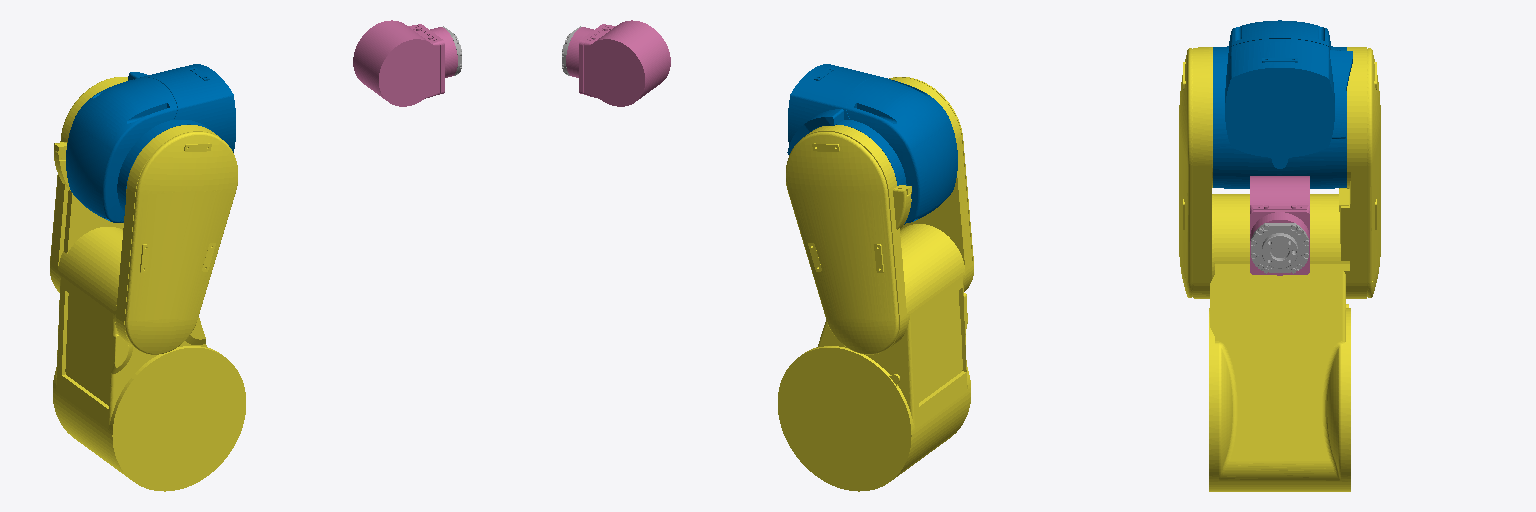
robot.urdf — rv7f:
<?xml version="1.0" ?>
<!-- =================================================================================== -->
<!-- |    This document was autogenerated by xacro from rv7f.urdf.xacro                | -->
<!-- |    EDITING THIS FILE BY HAND IS NOT RECOMMENDED                                 | -->
<!-- =================================================================================== -->
<robot name="rv7f" xmlns:xacro="http://ros.org/wiki/xacro">
  <!-- Include -->
  <material name="black">
    <color rgba="0.0 0.0 0.0 1.0"/>
  </material>
  <material name="blue">
    <color rgba="0.0 0.0 0.8 1.0"/>
  </material>
  <material name="green">
    <color rgba="0.0 0.8 0.0 1.0"/>
  </material>
  <material name="grey">
    <color rgba="0.2 0.2 0.2 1.0"/>
  </material>
  <material name="orange">
    <color rgba="1.0 0.423529411765 0.0392156862745 1.0"/>
  </material>
  <material name="brown">
    <color rgba="0.870588235294 0.811764705882 0.764705882353 1.0"/>
  </material>
  <material name="red">
    <color rgba="0.8 0.0 0.0 1.0"/>
  </material>
  <material name="white">
    <color rgba="1.0 1.0 1.0 1.0"/>
  </material>
  <!-- Radius Limits -->
  <!-- Velocity Limits -->
  <link name="base_link">
    <visual>
      <geometry>
        <mesh filename="package://mitsubishi_rv7f_description/meshes/rv7f/visual/base_link.dae"/>
      </geometry>
    </visual>
    <collision>
      <geometry>
        <mesh filename="package://mitsubishi_rv7f_description/meshes/rv7f/collision/base_link.stl"/>
      </geometry>
    </collision>
    <inertial>
      <mass value="12.928376"/>
      <inertia ixx="0.259755" ixy="-0.000334" ixz="-0.032452" iyy="0.287122" iyz="-0.023950" izz="0.148846"/>
    </inertial>
  </link>
  <link name="world"/>
  <joint name="world" type="fixed">
    <parent link="world"/>
    <child link="base_link"/>
  </joint>
  <link name="link_1">
    <visual>
      <geometry>
        <mesh filename="package://mitsubishi_rv7f_description/meshes/rv7f/visual/link_1.dae"/>
      </geometry>
    </visual>
    <collision>
      <geometry>
        <mesh filename="package://mitsubishi_rv7f_description/meshes/rv7f/collision/link_1.stl"/>
      </geometry>
    </collision>
    <inertial>
      <mass value="5.855081"/>
      <inertia ixx="0.109940" ixy="-0.000021" ixz="-0.001942" iyy="0.071902" iyz="-0.000051" izz="0.065726"/>
    </inertial>
  </link>
  <joint name="J1" type="revolute">
    <origin rpy="0 0 0" xyz="0 0 0.3995"/>
    <parent link="base_link"/>
    <child link="link_1"/>
    <axis xyz="0 0 1"/>
    <dynamics dampint="0.7" friction="0.7"/>
    <limit effort="30.0" lower="-4.18879032" upper="4.18879032" velocity="6.28318548"/>
  </joint>
  <link name="link_2">
    <visual>
      <geometry>
        <mesh filename="package://mitsubishi_rv7f_description/meshes/rv7f/visual/link_2.dae"/>
      </geometry>
    </visual>
    <collision>
      <geometry>
        <mesh filename="package://mitsubishi_rv7f_description/meshes/rv7f/collision/link_2.stl"/>
      </geometry>
    </collision>
    <inertial>
      <mass value="9.260846"/>
      <inertia ixx="0.295810" ixy="-0.000221" ixz="-0.019796" iyy="0.282036" iyz="0.001444" izz="0.053750"/>
    </inertial>
  </link>
  <joint name="J2" type="revolute">
    <origin rpy="0 0 0" xyz="0 0 0"/>
    <parent link="link_1"/>
    <child link="link_2"/>
    <axis xyz="0 1 0"/>
    <dynamics dampint="0.7" friction="0.7"/>
    <limit effort="30.0" lower="-2.007128695" upper="2.181661625" velocity="6.998770493"/>
  </joint>
  <link name="link_3">
    <visual>
      <geometry>
        <mesh filename="package://mitsubishi_rv7f_description/meshes/rv7f/visual/link_3.dae"/>
      </geometry>
    </visual>
    <collision>
      <geometry>
        <mesh filename="package://mitsubishi_rv7f_description/meshes/rv7f/collision/link_3.stl"/>
      </geometry>
    </collision>
    <inertial>
      <mass value="3.795239"/>
      <inertia ixx="0.014442" ixy="0.000207" ixz="0.001511" iyy="0.017521" iyz="0.000026" izz="0.014809"/>
    </inertial>
  </link>
  <joint name="J3" type="revolute">
    <origin rpy="0 0 0" xyz="0 0 0.340"/>
    <parent link="link_2"/>
    <child link="link_3"/>
    <axis xyz="0 1 0"/>
    <dynamics dampint="0.7" friction="0.7"/>
    <limit effort="30.0" lower="-1.57079635255" upper="1.151917338" velocity="7.85398185"/>
  </joint>
  <link name="link_4">
    <visual>
      <geometry>
        <mesh filename="package://mitsubishi_rv7f_description/meshes/rv7f/visual/link_4.dae"/>
      </geometry>
    </visual>
    <collision>
      <geometry>
        <mesh filename="package://mitsubishi_rv7f_description/meshes/rv7f/collision/link_4.stl"/>
      </geometry>
    </collision>
    <inertial>
      <mass value="2.764278"/>
      <inertia ixx="0.005405" ixy="-0.000329" ixz="0.000192" iyy="0.080630" iyz="0.000000" izz="0.081901"/>
    </inertial>
  </link>
  <joint name="J4" type="revolute">
    <origin rpy="0 0 0" xyz="0.37 0 0.05"/>
    <parent link="link_3"/>
    <child link="link_4"/>
    <axis xyz="1 0 0"/>
    <dynamics dampint="0.7" friction="0.7"/>
    <limit effort="30.0" lower="-3.4906586" upper="3.4906586" velocity="5.881759741"/>
  </joint>
  <link name="link_5">
    <visual>
      <geometry>
        <mesh filename="package://mitsubishi_rv7f_description/meshes/rv7f/visual/link_5.dae"/>
      </geometry>
    </visual>
    <collision>
      <geometry>
        <mesh filename="package://mitsubishi_rv7f_description/meshes/rv7f/collision/link_5.stl"/>
      </geometry>
    </collision>
    <inertial>
      <mass value="0.5803"/>
      <inertia ixx="0.000519" ixy="0.000000" ixz="0.000026" iyy="0.000937" iyz="0.000000" izz="0.000827"/>
    </inertial>
  </link>
  <joint name="J5" type="revolute">
    <origin rpy="0 0 0" xyz="0 0 0"/>
    <parent link="link_4"/>
    <child link="link_5"/>
    <axis xyz="0 1 0"/>
    <dynamics dampint="0.7" friction="0.7"/>
    <limit effort="30.0" lower="-2.09439516" upper="2.09439516" velocity="7.85398185"/>
  </joint>
  <link name="link_6">
    <visual>
      <geometry>
        <mesh filename="package://mitsubishi_rv7f_description/meshes/rv7f/visual/link_6.dae"/>
      </geometry>
    </visual>
    <collision>
      <geometry>
        <mesh filename="package://mitsubishi_rv7f_description/meshes/rv7f/collision/link_6.stl"/>
      </geometry>
    </collision>
    <inertial>
      <mass value="0.025371"/>
      <inertia ixx="0.000011" ixy="0.000000" ixz="0.000000" iyy="0.000006" iyz="0.000000" izz="0.000007"/>
    </inertial>
  </link>
  <joint name="J6" type="revolute">
    <origin rpy="0 0 0" xyz="0.0713 0 0"/>
    <parent link="link_5"/>
    <child link="link_6"/>
    <axis xyz="1 0 0"/>
    <dynamics dampint="0.7" friction="0.7"/>
    <limit effort="30.0" lower="-3.4906586" upper="3.4906586" velocity="12.56637096"/>
  </joint>
  <!--   <joint name="joint_tool0" type="fixed">
    <origin rpy="0 0 0" xyz="0 0 0"/>
    <parent link="link_6"/>
    <child link="tool0"/>
  </joint>
 -->
  <!-- transmission -->
  <transmission name="transmission_1">
    <type>transmission_interface/SimpleTransmission</type>
    <joint name="J1">
      <hardwareInterface>PositionJointInterface</hardwareInterface>
    </joint>
    <actuator name="motor_1">
      <hardwareInterface>PositionJointInterface</hardwareInterface>
      <mechanicalReduction>1</mechanicalReduction>
    </actuator>
  </transmission>
  <transmission name="transmission_2">
    <type>transmission_interface/SimpleTransmission</type>
    <joint name="J2">
      <hardwareInterface>PositionJointInterface</hardwareInterface>
    </joint>
    <actuator name="motor_2">
      <hardwareInterface>PositionJointInterface</hardwareInterface>
      <mechanicalReduction>1</mechanicalReduction>
    </actuator>
  </transmission>
  <transmission name="transmission_3">
    <type>transmission_interface/SimpleTransmission</type>
    <joint name="J3">
      <hardwareInterface>PositionJointInterface</hardwareInterface>
    </joint>
    <actuator name="motor_3">
      <hardwareInterface>PositionJointInterface</hardwareInterface>
      <mechanicalReduction>1</mechanicalReduction>
    </actuator>
  </transmission>
  <transmission name="transmission_4">
    <type>transmission_interface/SimpleTransmission</type>
    <joint name="J4">
      <hardwareInterface>PositionJointInterface</hardwareInterface>
    </joint>
    <actuator name="motor_4">
      <hardwareInterface>PositionJointInterface</hardwareInterface>
      <mechanicalReduction>1</mechanicalReduction>
    </actuator>
  </transmission>
  <transmission name="transmission_5">
    <type>transmission_interface/SimpleTransmission</type>
    <joint name="J5">
      <hardwareInterface>PositionJointInterface</hardwareInterface>
    </joint>
    <actuator name="motor_5">
      <hardwareInterface>PositionJointInterface</hardwareInterface>
      <mechanicalReduction>1</mechanicalReduction>
    </actuator>
  </transmission>
  <transmission name="transmission_6">
    <type>transmission_interface/SimpleTransmission</type>
    <joint name="J6">
      <hardwareInterface>PositionJointInterface</hardwareInterface>
    </joint>
    <actuator name="motor_6">
      <hardwareInterface>PositionJointInterface</hardwareInterface>
      <mechanicalReduction>1</mechanicalReduction>
    </actuator>
  </transmission>
  <!-- gazebo -->
  <gazebo>
    <plugin filename="libgazebo_ros_control.so" name="gazebo_ros_control">
      <robotNamespace>/rv7f</robotNamespace>
      <robotSimType>gazebo_ros_control/DefaultRobotHWSim</robotSimType>
    </plugin>
  </gazebo>
  <gazebo reference="base_link">
    <mu1>0.2</mu1>
    <mu2>0.2</mu2>
    <selfCollide>true</selfCollide>
  </gazebo>
  <gazebo reference="link_1">
    <mu1>0.2</mu1>
    <mu2>0.2</mu2>
    <selfCollide>true</selfCollide>
  </gazebo>
  <gazebo reference="link_2">
    <mu1>0.2</mu1>
    <mu2>0.2</mu2>
    <selfCollide>true</selfCollide>
  </gazebo>
  <gazebo reference="link_3">
    <mu1>0.2</mu1>
    <mu2>0.2</mu2>
    <selfCollide>true</selfCollide>
  </gazebo>
  <gazebo reference="link_4">
    <mu1>0.2</mu1>
    <mu2>0.2</mu2>
    <selfCollide>true</selfCollide>
  </gazebo>
  <gazebo reference="link_5">
    <mu1>0.2</mu1>
    <mu2>0.2</mu2>
    <selfCollide>true</selfCollide>
  </gazebo>
  <gazebo reference="link_6">
    <mu1>0.2</mu1>
    <mu2>0.2</mu2>
    <selfCollide>true</selfCollide>
  </gazebo>
</robot>

--- Render facts (derived) ---
Views: 3 orthographic renders of the robot side by side, from view 1: azimuth 30°, elevation 25°; view 2: azimuth 150°, elevation 25°; view 3: azimuth 270°, elevation 25°.
Robot: rv7f — 8 links, 7 joints (6 revolute, 1 fixed); root link world; default pose: every joint at zero.
Visible links, largest first — view 1: link_2, link_3, link_5; view 2: link_2, link_3, link_5; view 3: link_2, link_3, link_5, link_6.
Link boxes in pixels (<box>): link_2: <box>50,77,245,491</box>; link_3: <box>66,64,235,222</box>; link_5: <box>353,20,457,106</box>; link_2: <box>778,77,973,491</box>; link_3: <box>787,64,957,224</box>; link_5: <box>566,20,670,106</box>; link_2: <box>1179,47,1380,491</box>; link_3: <box>1213,20,1352,188</box>; link_5: <box>1250,176,1309,275</box>; link_6: <box>1251,223,1308,273</box>.
Size in the robot's own frame: 0.5568 by 0.22 by 0.545 metres.
4 mesh visuals loaded from 7 distinct referenced files (4 Collada DAE); not drawn: 2 (reference not matched to a file when rendering), 1 (file found but could not be loaded).
